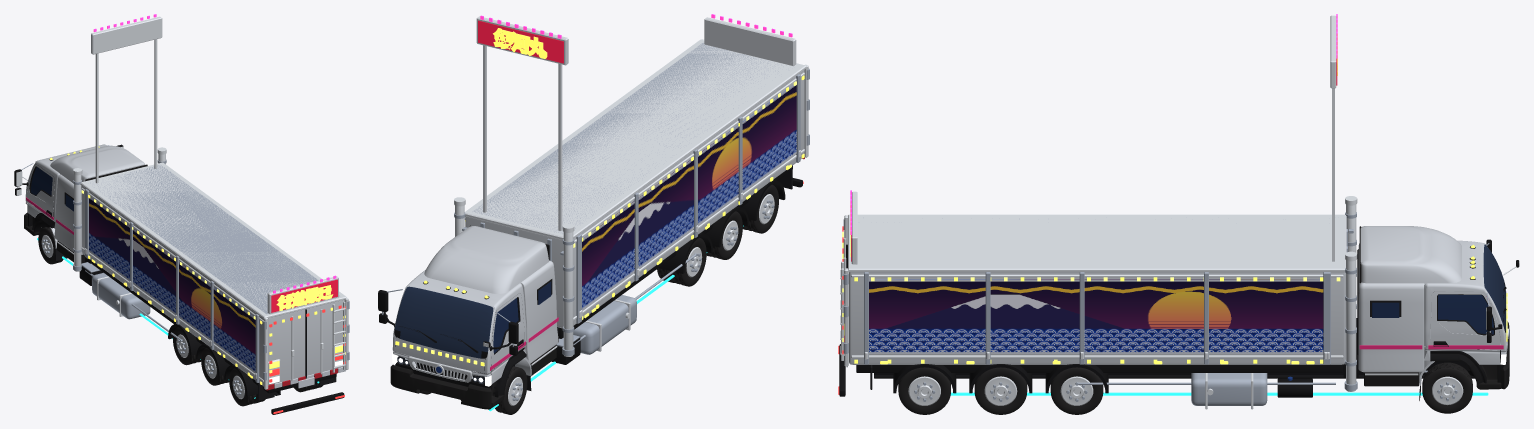
The model's file is dekotora_truck_longo_chata.glb.
3 renders of one model, left to right at view 1: azimuth 30°, elevation 25°; view 2: azimuth 150°, elevation 25°; view 3: azimuth 270°, elevation 25°, orthographic. The views are drawn at different scales.
Visible parts, largest first — view 1: truck_chrome, truck_steel, truck_paint_white_panel, truck_mural, truck_plastic_black, truck_lamp_amber, wheel_r_L_1.5_1.06, truck_glass, truck_plastic_trim, wheel_f_L, wheel_r_L_3.0_1.06, wheel_r_L_4.5_1.06 (+3 smaller); view 2: truck_chrome, truck_paint_white_panel, truck_mural, truck_steel, truck_plastic_black, truck_glass_wind, truck_plastic_trim, truck_lamp_amber, truck_andon_panel, wheel_f_L, wheel_r_L_4.5_1.06, truck_glass (+3 smaller); view 3: truck_chrome, truck_mural, truck_paint_white_panel, truck_plastic_black, truck_steel, wheel_f_R, wheel_r_R_3.0_1.06, wheel_r_R_1.5_1.06, wheel_r_R_4.5_1.06, truck_glass, truck_plastic_trim, truck_lamp_amber (+3 smaller).
Part boxes in pixels (<box>): truck_chrome: <box>16,16,348,389</box>; truck_steel: <box>17,145,349,382</box>; truck_paint_white_panel: <box>25,144,344,386</box>; truck_mural: <box>89,197,255,372</box>; truck_plastic_black: <box>14,144,344,414</box>; truck_lamp_amber: <box>49,146,345,384</box>; wheel_r_L_1.5_1.06: <box>229,368,256,406</box>; truck_glass: <box>30,167,73,211</box>; truck_plastic_trim: <box>24,164,147,263</box>; wheel_f_L: <box>38,227,63,264</box>; wheel_r_L_3.0_1.06: <box>201,348,226,385</box>; wheel_r_L_4.5_1.06: <box>173,327,198,365</box>; truck_chrome: <box>408,16,808,382</box>; truck_paint_white_panel: <box>392,70,804,383</box>; truck_mural: <box>582,84,796,310</box>; truck_steel: <box>382,43,809,355</box>; truck_plastic_black: <box>378,165,802,397</box>; truck_glass_wind: <box>394,286,493,358</box>; truck_plastic_trim: <box>390,225,556,409</box>; truck_lamp_amber: <box>395,28,804,366</box>; truck_andon_panel: <box>478,20,563,63</box>; wheel_f_L: <box>495,366,527,414</box>; wheel_r_L_4.5_1.06: <box>671,237,706,286</box>; truck_glass: <box>493,281,551,353</box>; truck_chrome: <box>840,15,1519,409</box>; truck_mural: <box>869,279,1323,353</box>; truck_paint_white_panel: <box>849,226,1506,385</box>; truck_plastic_black: <box>839,239,1518,397</box>; truck_steel: <box>843,212,1490,405</box>; wheel_f_R: <box>1422,362,1472,413</box>; wheel_r_R_3.0_1.06: <box>974,367,1027,414</box>; wheel_r_R_1.5_1.06: <box>898,367,950,414</box>; wheel_r_R_4.5_1.06: <box>1050,367,1103,414</box>; truck_glass: <box>1372,294,1493,334</box>; truck_plastic_trim: <box>1359,226,1509,389</box>; truck_lamp_amber: <box>842,34,1507,364</box>.
Bounding box in the file's own units: 3.33 × 7.72 × 13.42.
22 materials, 5 textured.
